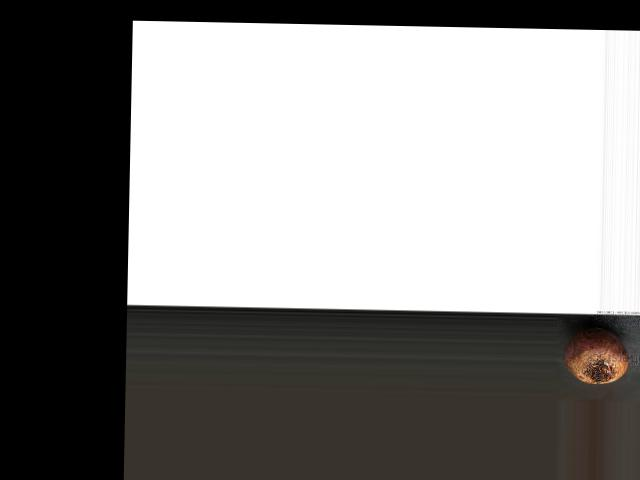beet: (562, 327, 628, 384)
